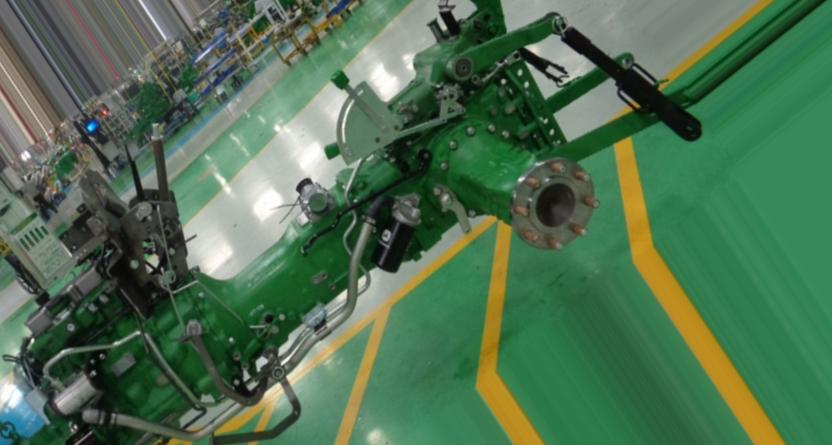engine: (0, 0, 698, 445)
